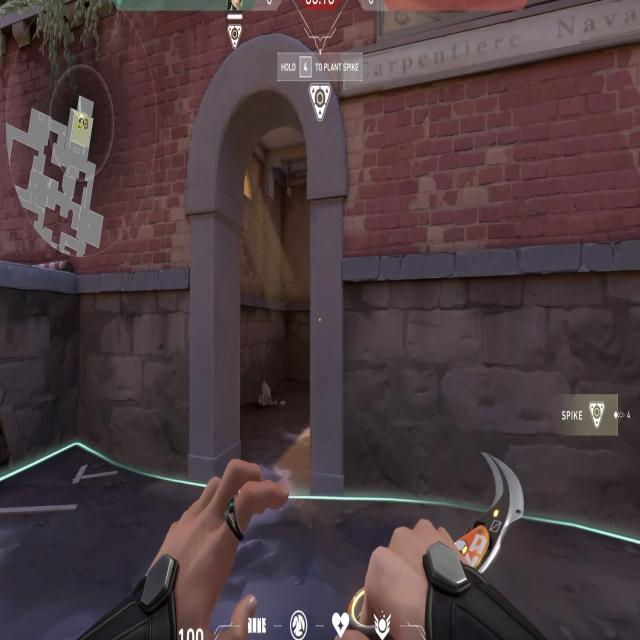B_Boathouse: (186, 31, 347, 504)
